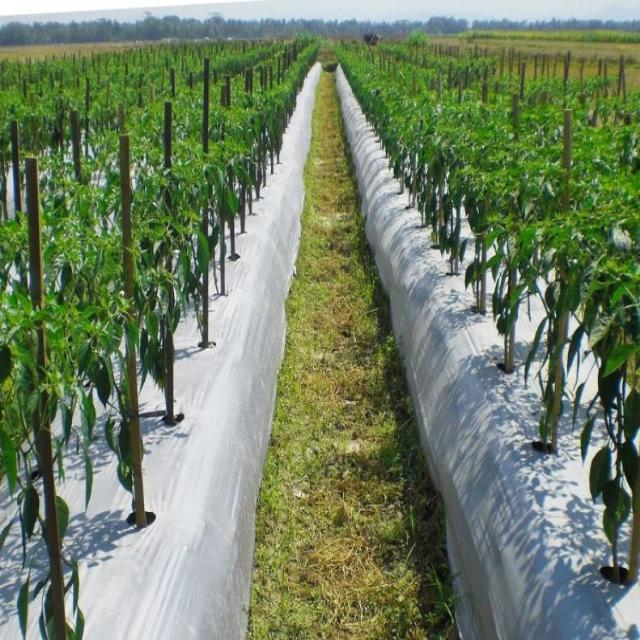row: (219, 62, 521, 639)
